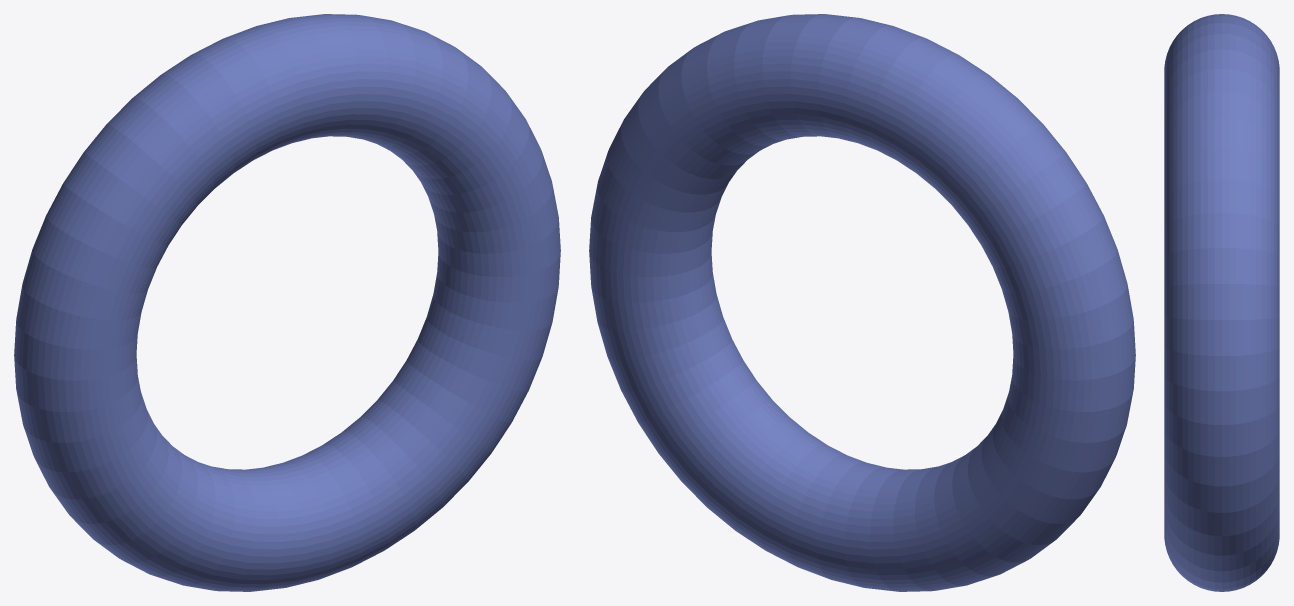
3 views of the same model, side by side, from view 1: azimuth 30°, elevation 25°; view 2: azimuth 150°, elevation 25°; view 3: azimuth 270°, elevation 25° (orthographic). The views are drawn at different scales.
Parts seen in each view (by area): view 1: world; view 2: world; view 3: world.
Part boxes in pixels (x1=…): world: x1=14, y1=14, x2=560, y2=591; world: x1=589, y1=14, x2=1135, y2=591; world: x1=1164, y1=14, x2=1279, y2=591.
Size of the model in its own units: 16.67 by 16.63 by 3.33.
